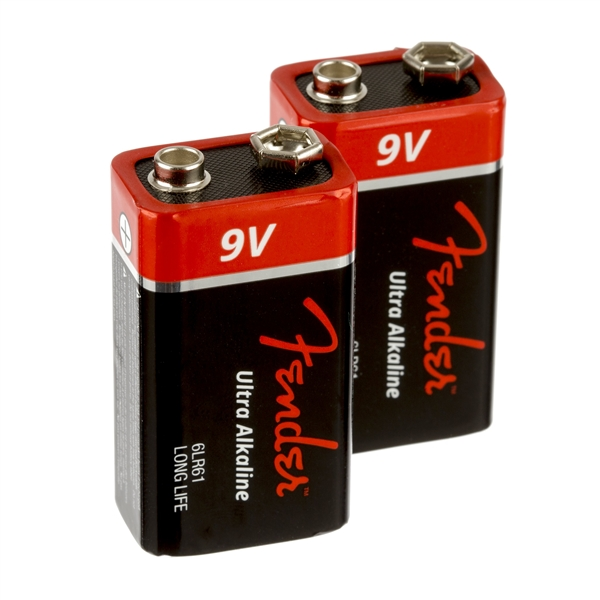9V: (99, 120, 365, 560), (258, 38, 527, 455)
